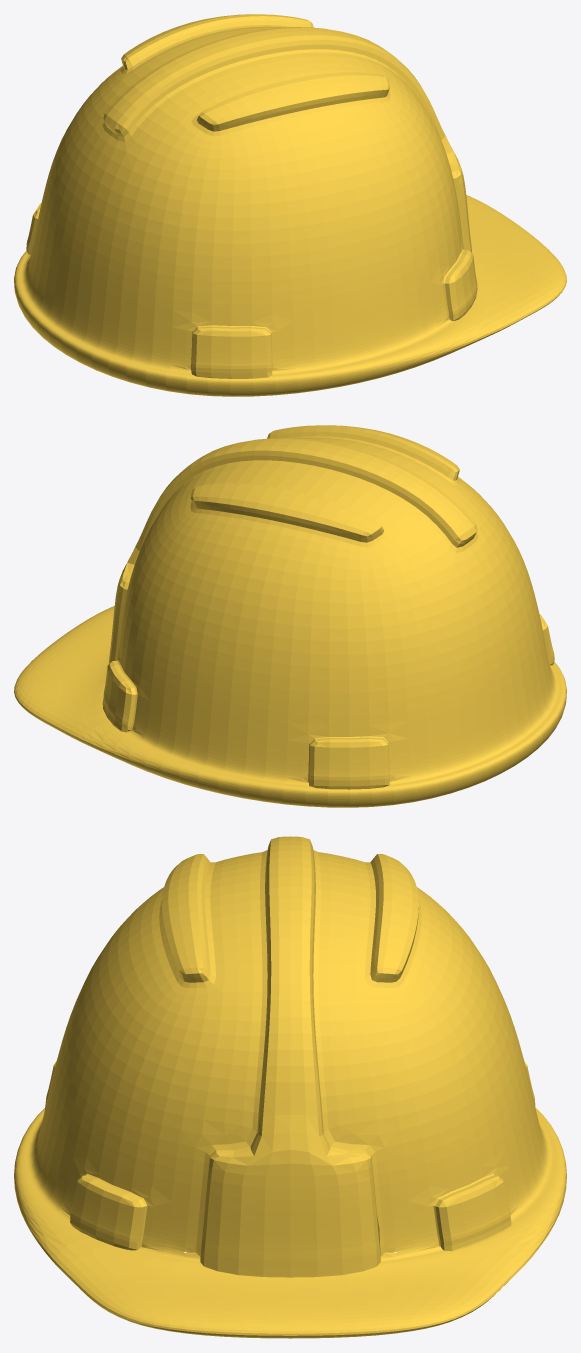
File: Hardhat.glb
3 views of the same model, one above another, from view 1: azimuth 30°, elevation 25°; view 2: azimuth 150°, elevation 25°; view 3: azimuth 270°, elevation 25° (orthographic). The views are drawn at different scales.
Visible parts, largest first — view 1: Cube; view 2: Cube; view 3: Cube.
Boxes of the visible parts, <box> form: Cube: <box>14,14,566,396</box>; Cube: <box>14,425,566,807</box>; Cube: <box>14,836,566,1338</box>.
Size of the model in its own units: 300 by 161 by 256.
